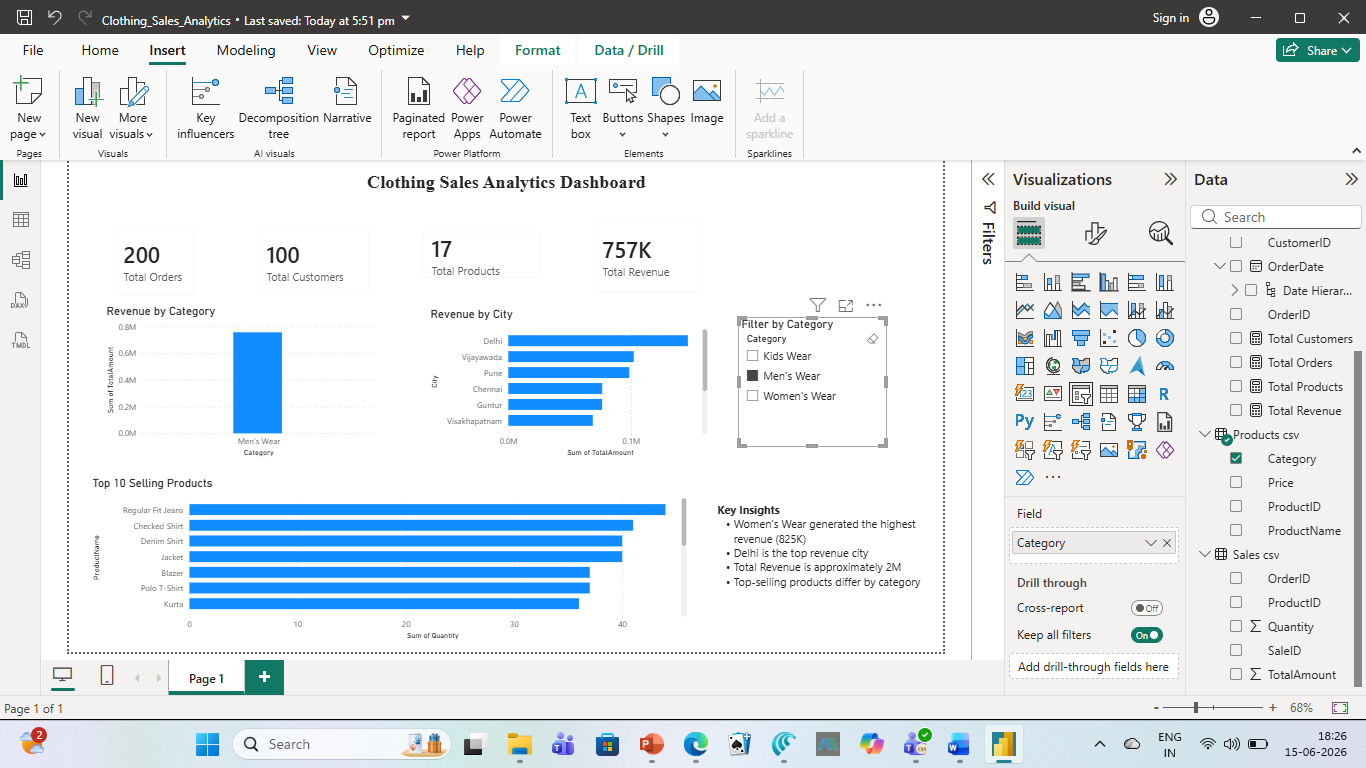

The page's visual inventory and layout, read from the dashboard file:
{"tool":"powerbi","page":{"name":"Page 1","canvas":[1280,720],"ordinal":0},"visuals":[{"type":"cardVisual","fields":{"Data":["Orders csv.Total Customers"]},"box":[181.5,11.7,197.6,127.3],"z":0},{"type":"cardVisual","fields":{"Data":["Orders csv.Total Orders"]},"box":[16.1,10.2,150.7,134.6],"z":1000},{"type":"cardVisual","fields":{"Data":["Orders csv.Total Products"]},"box":[379,24.9,207.8,102.4],"z":2000},{"type":"cardVisual","fields":{"Data":["Orders csv.Total Revenue"]},"box":[600,0,193.2,140.5],"z":3000},{"type":"clusteredColumnChart","title":"Revenue by Category","fields":{"Category":["Products csv.Category"],"Y":["Sum(Sales csv.TotalAmount)"]},"box":[16.1,139,456.6,256.1],"z":4000},{"type":"clusteredBarChart","title":"Revenue by City","fields":{"Category":["customers csv.City"],"Y":["Sum(Sales csv.TotalAmount)"]},"box":[513.7,134.6,466.8,260.5],"z":4001},{"type":"clusteredBarChart","title":"Top 10 Selling Products","fields":{"Category":["Products csv.ProductName"],"Y":["Sum(Sales csv.Quantity)"]},"box":[29.3,405.4,1109.3,295.6],"z":4002},{"type":"slicer","fields":{"Values":["Products csv.Category"]},"box":[1028.8,111.2,218,283.9],"z":4003}]}

Visuals, with their boxes on the page's 1280x720 design canvas (x1, y1, x2, y2). These are canvas units, not pixel positions in the 1366x768 screenshot, which may show the page scaled, cropped or inside an application window:
cardVisual - Orders csv.Total Customers: rect(182, 12, 379, 139)
cardVisual - Orders csv.Total Orders: rect(16, 10, 167, 145)
cardVisual - Orders csv.Total Products: rect(379, 25, 587, 127)
cardVisual - Orders csv.Total Revenue: rect(600, 0, 793, 140)
"Revenue by Category" clusteredColumnChart: rect(16, 139, 473, 395)
"Revenue by City" clusteredBarChart: rect(514, 135, 980, 395)
"Top 10 Selling Products" clusteredBarChart: rect(29, 405, 1139, 701)
slicer - Products csv.Category: rect(1029, 111, 1247, 395)
